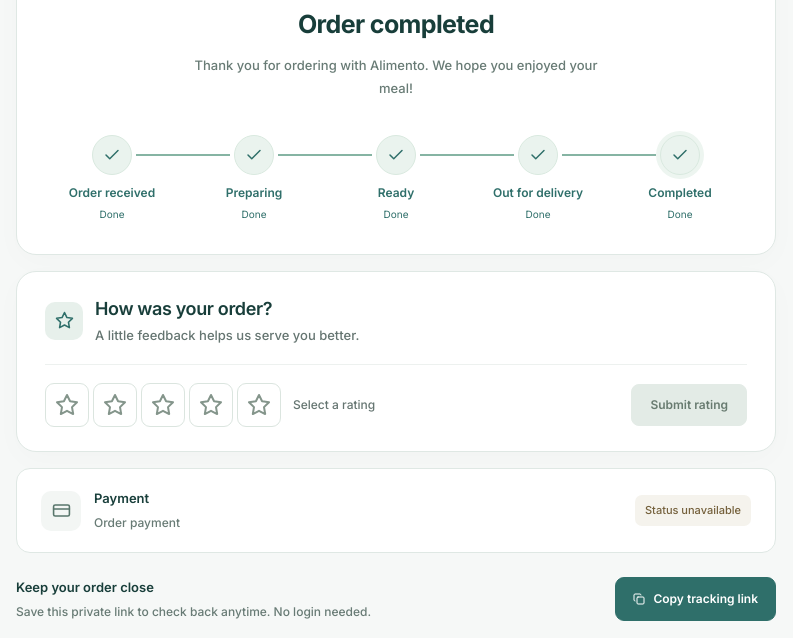
completed customer can choose one star and submit it
(page scrolled)
Expected: the heading "How was your order?" is shown, [95, 298, 272, 319]
Expected: the button "Submit rating" is disabled, [631, 384, 747, 426]
Click the button named "1 star". click: (67, 405)
box: [45, 383, 89, 427]
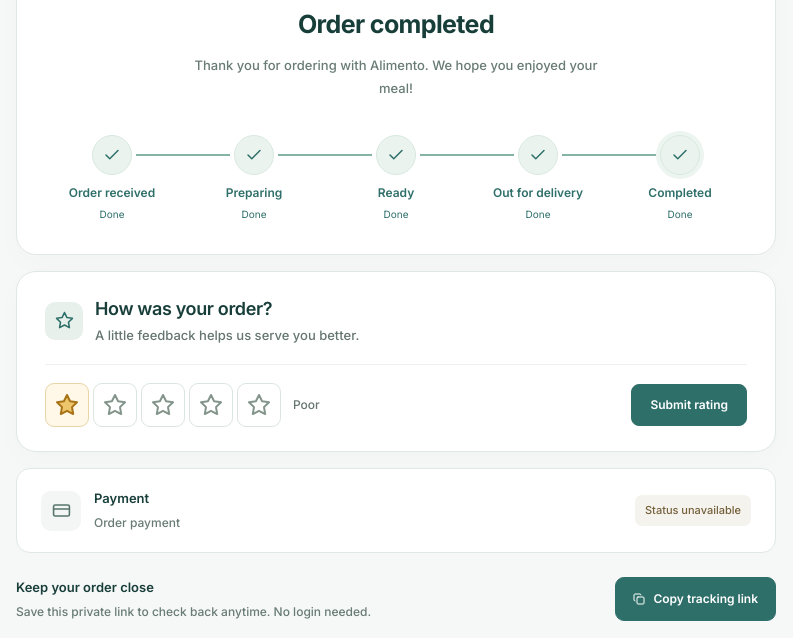
Expected: the button named "1 star" is pressed, [45, 383, 89, 427]
Click the button "Submit rating". click: (689, 405)
box: [631, 384, 747, 426]
(page scrolled)
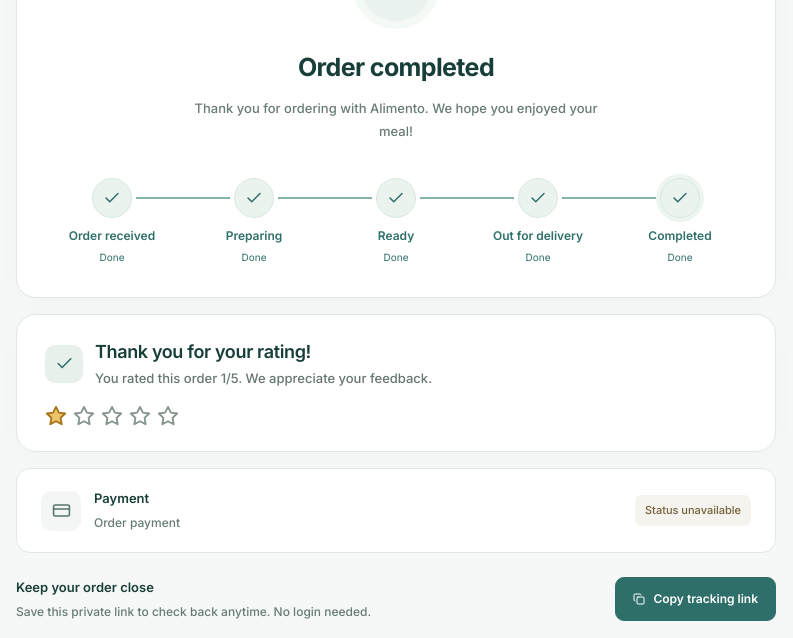
Expected: the heading "Thank you for your rating!" is shown, [95, 341, 311, 362]
